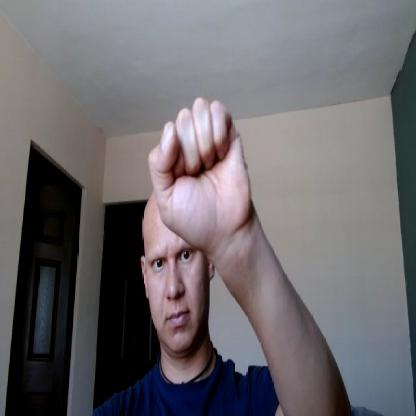S: (147, 93, 252, 250)
